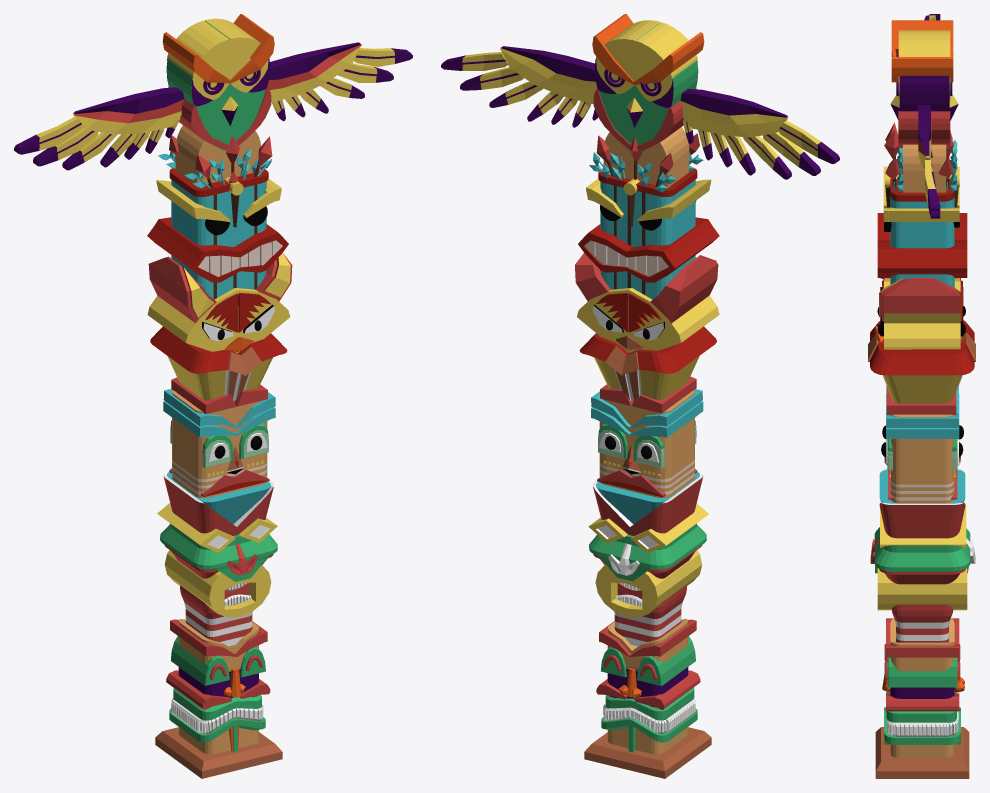
Rendered from totem.fbx.
The picture shows the model from 3 angles, left to right: view 1: azimuth 30°, elevation 25°; view 2: azimuth 150°, elevation 25°; view 3: azimuth 270°, elevation 25°; orthographic projection.
Visible parts, largest first — view 1: Cylinder.030, Cube.020, Cube.046, Cube.007, Cube.004, Cube.019, Cube; view 2: Cylinder.030, Cube.020, Cube.046, Cube.007, Cube.004, Cube.019, Cube; view 3: Cube.020, Cube.007, Cylinder.030, Cube.004, Cube.046, Cube.019, Cube.
Part boxes in pixels (x1=…): Cylinder.030: x1=14, y1=14, x2=412, y2=183; Cube.020: x1=147, y1=253, x2=292, y2=414; Cube.046: x1=147, y1=135, x2=288, y2=299; Cube.007: x1=157, y1=474, x2=277, y2=646; Cube.004: x1=166, y1=619, x2=270, y2=754; Cube.019: x1=163, y1=389, x2=275, y2=524; Cube: x1=155, y1=727, x2=282, y2=778; Cylinder.030: x1=441, y1=14, x2=839, y2=187; Cube.020: x1=575, y1=253, x2=719, y2=413; Cube.046: x1=578, y1=133, x2=719, y2=299; Cube.007: x1=588, y1=474, x2=708, y2=646; Cube.004: x1=596, y1=619, x2=700, y2=754; Cube.019: x1=591, y1=389, x2=703, y2=524; Cube: x1=584, y1=727, x2=711, y2=778; Cube.020: x1=868, y1=278, x2=975, y2=414; Cube.007: x1=870, y1=468, x2=975, y2=642; Cylinder.030: x1=890, y1=14, x2=958, y2=218; Cube.004: x1=882, y1=618, x2=964, y2=757; Cube.046: x1=877, y1=122, x2=967, y2=287; Cube.019: x1=879, y1=385, x2=965, y2=503; Cube: x1=875, y1=727, x2=969, y2=778.
Size of the model in its own units: 2507 by 592 by 4388.
